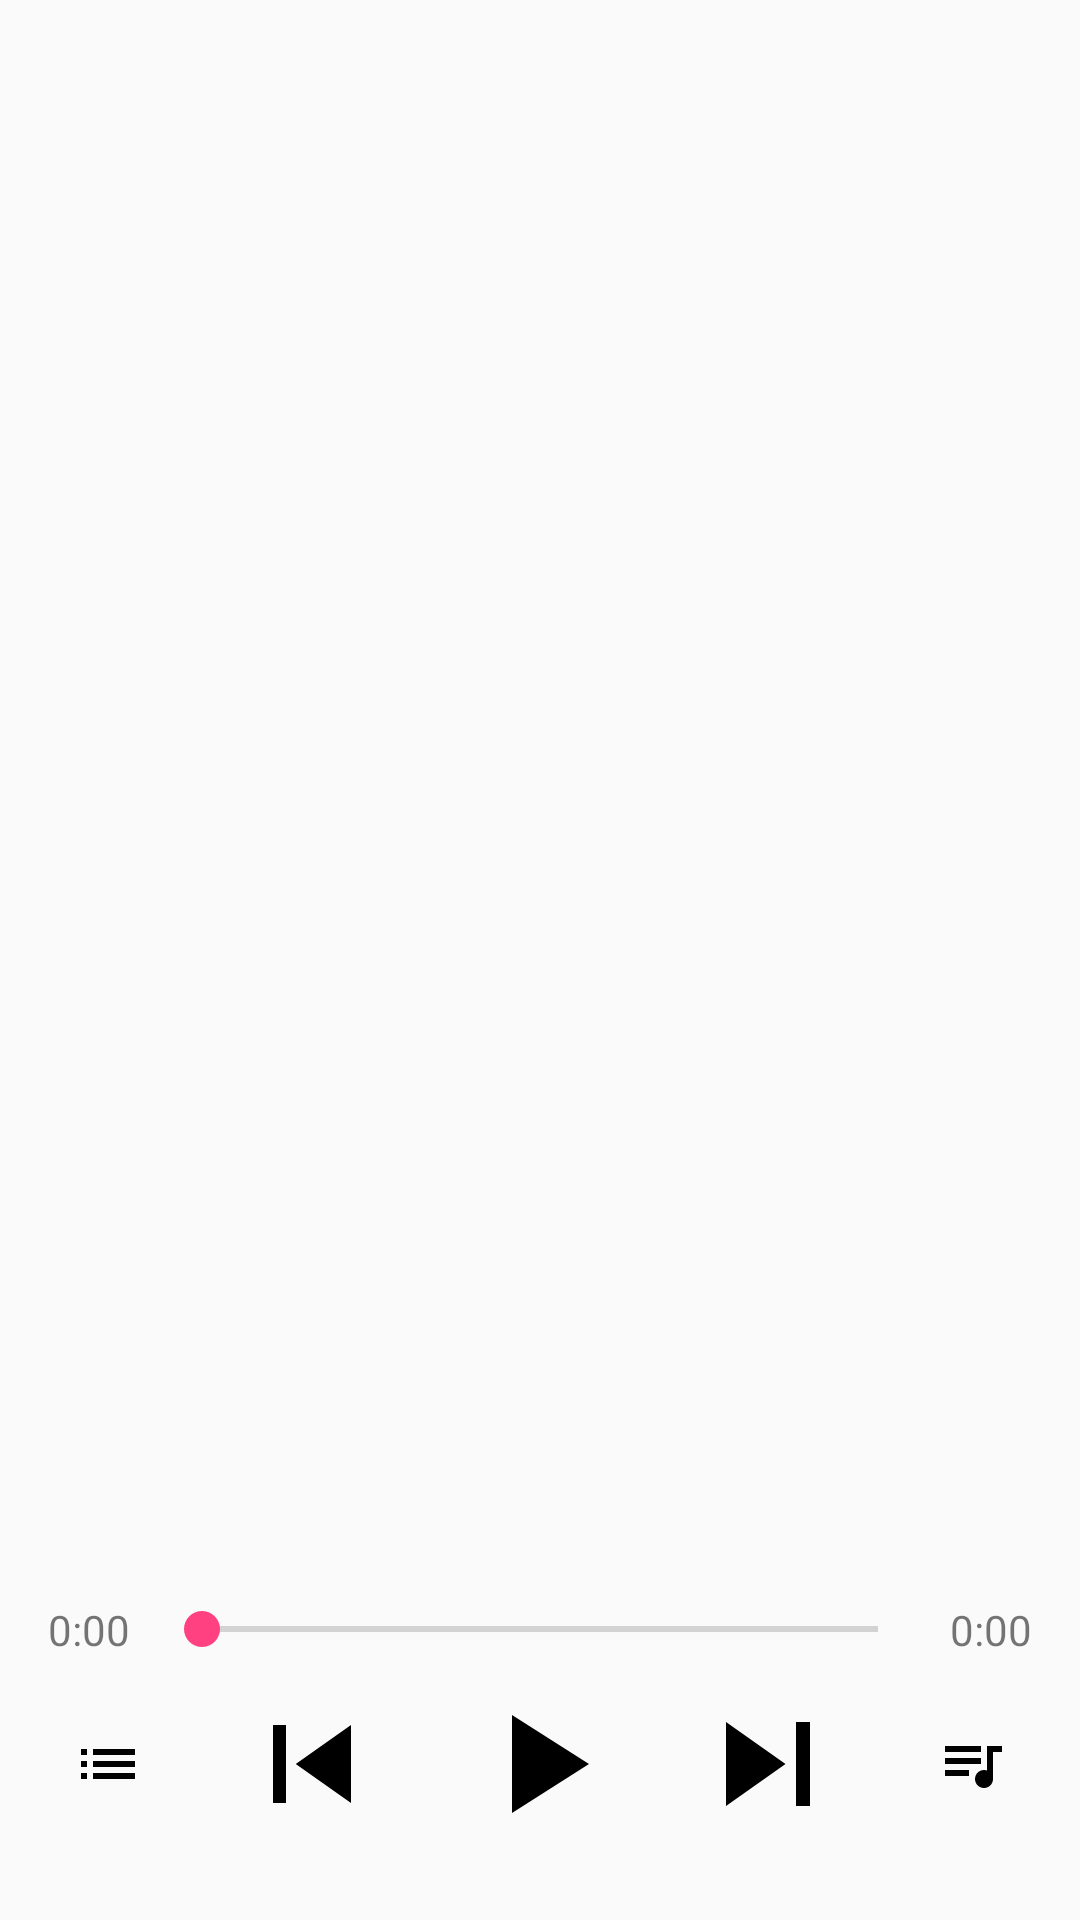

Point at icon controls on the screen. Image size 1080×1920, points as (x=x, y=y).
list: (x=108, y=1764)
play: (x=550, y=1764)
play next: (x=768, y=1764)
play previous: (x=312, y=1764)
queue music: (x=973, y=1767)
